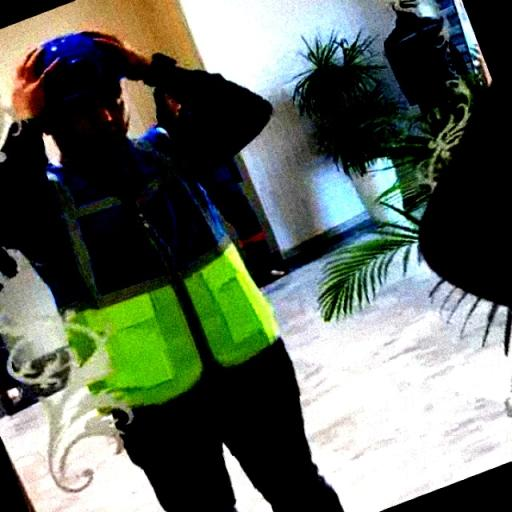Person: (6, 26, 383, 508)
helmet: (18, 37, 142, 101)
vest: (34, 128, 312, 421)
